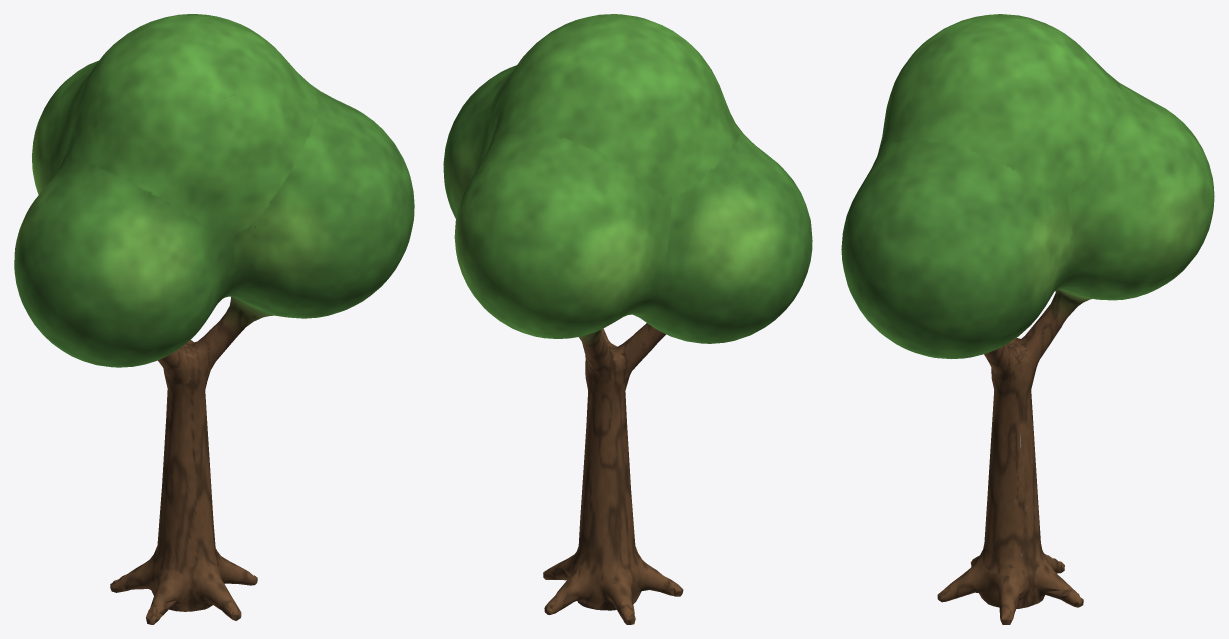
File: tree_edits.glb
3 views of the same model, side by side, from view 1: azimuth 30°, elevation 25°; view 2: azimuth 150°, elevation 25°; view 3: azimuth 270°, elevation 25° (orthographic).
Visible parts, largest first — view 1: tree_edits; view 2: tree_edits; view 3: tree_edits.
Boxes of the visible parts, x1,y1,x2,y2 form: tree_edits: (14, 14, 414, 624); tree_edits: (443, 14, 812, 624); tree_edits: (841, 14, 1214, 624).
Size of the model in its own units: 3.35 by 5.15 by 3.05.
Materials: 1 (1 with a texture image).
